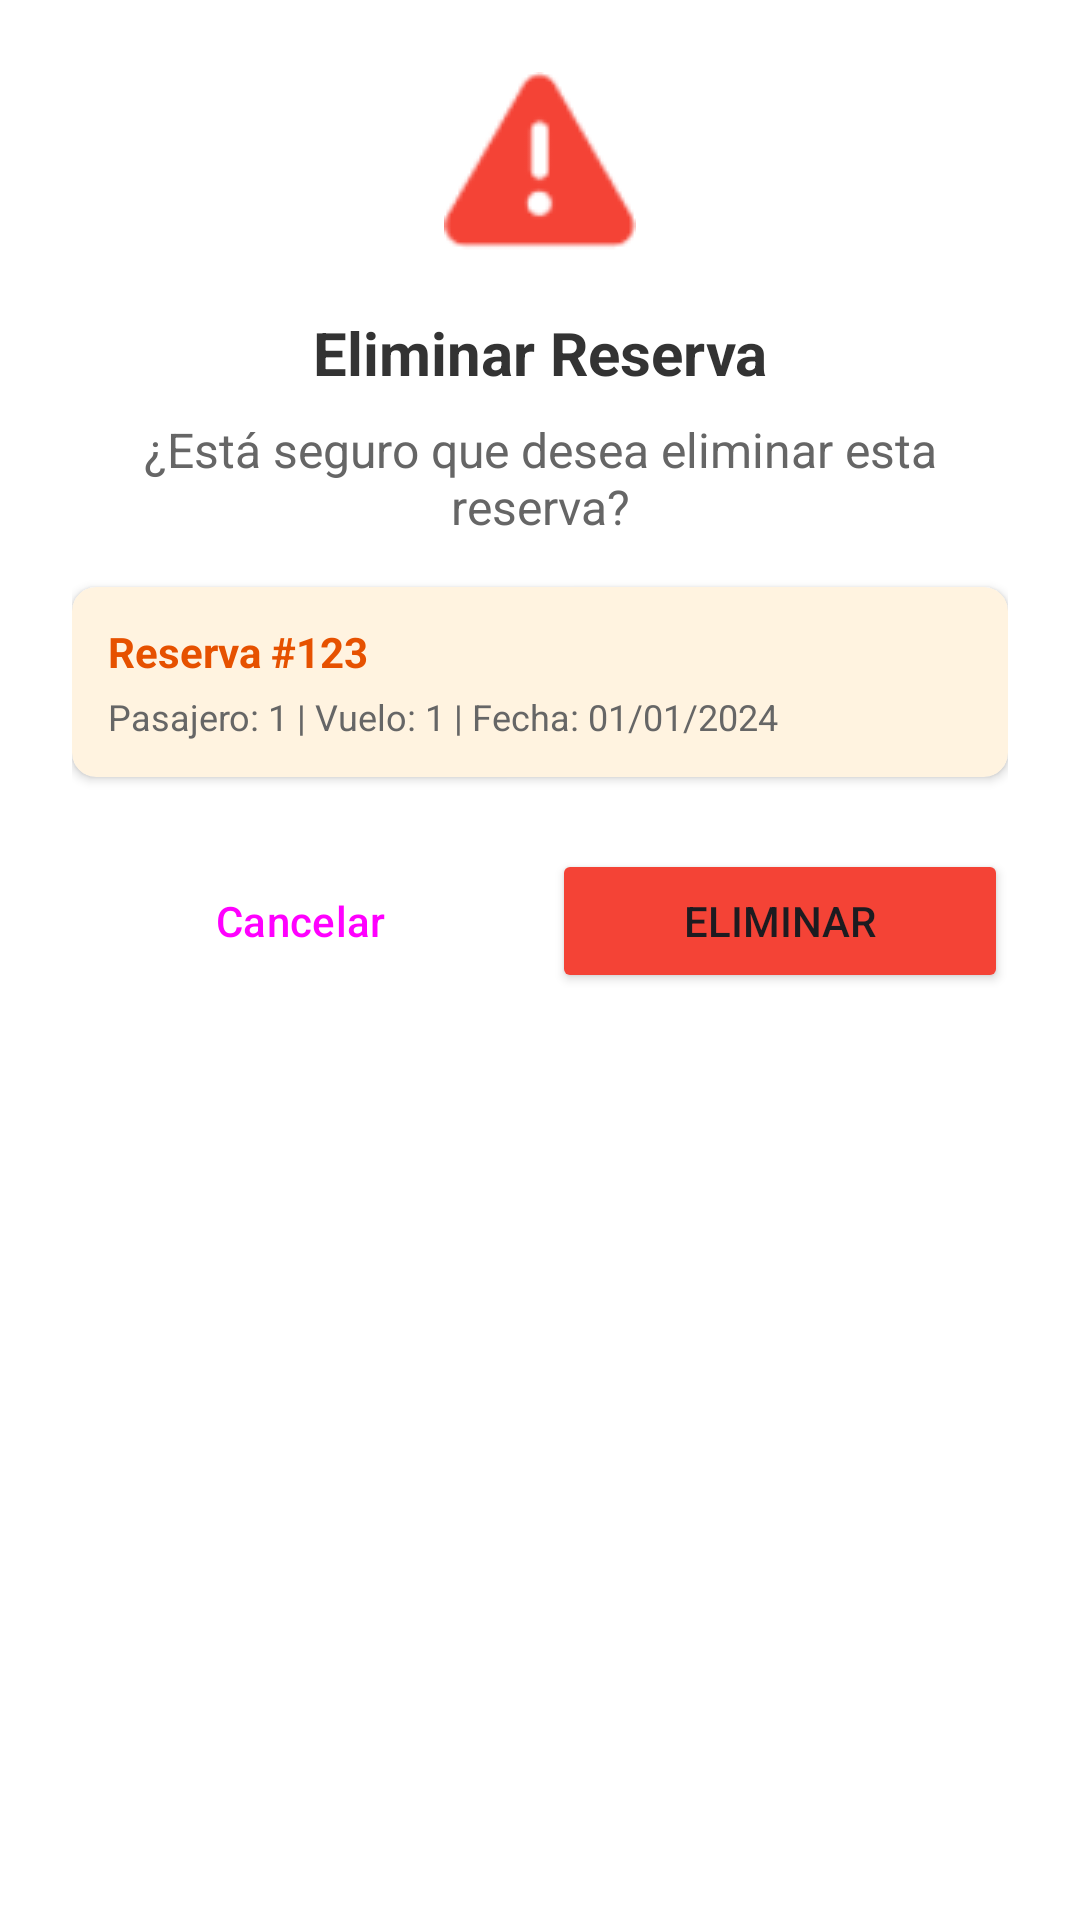

Screen size 1080x1920. Icon name, then its center in pixels as [x,y]:
alert: [540,159]
